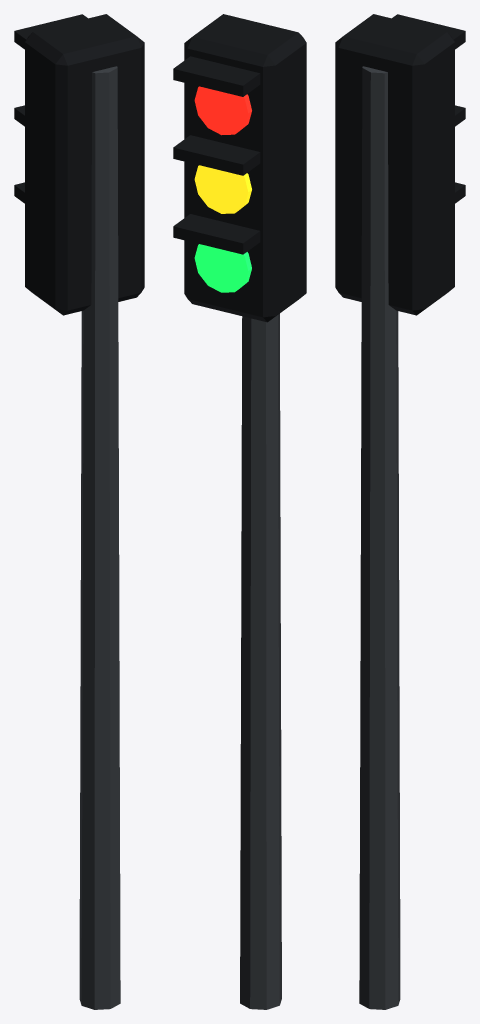
File: semaforo.glb
3 views of the same model, side by side, from view 1: azimuth 30°, elevation 25°; view 2: azimuth 150°, elevation 25°; view 3: azimuth 330°, elevation 25° (orthographic). The views are drawn at different scales.
Parts seen in each view (by area): view 1: semaforo_corpo; view 2: semaforo_corpo, luz_amarela, luz_verde, luz_vermelha; view 3: semaforo_corpo.
Boxes of the visible parts, x1,y1,x2,y2 form: semaforo_corpo: (14,14,144,1009); semaforo_corpo: (173,14,306,1009); luz_amarela: (194,165,251,213); luz_verde: (194,244,251,292); luz_vermelha: (194,86,251,135); semaforo_corpo: (335,14,465,1009).
Size of the model in its own units: 0.34 by 3.47 by 0.41.
